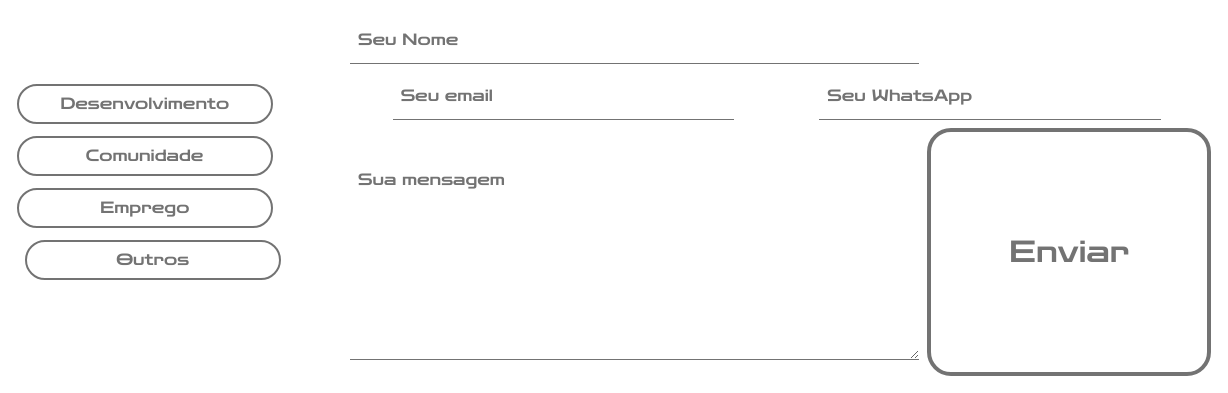
Test: Formulario › preenche e envia o formulário com sucesso
Type "João" into the field with placeholder "Seu Nome".
click(634, 40); type("João")  # box [350,16,919,64]
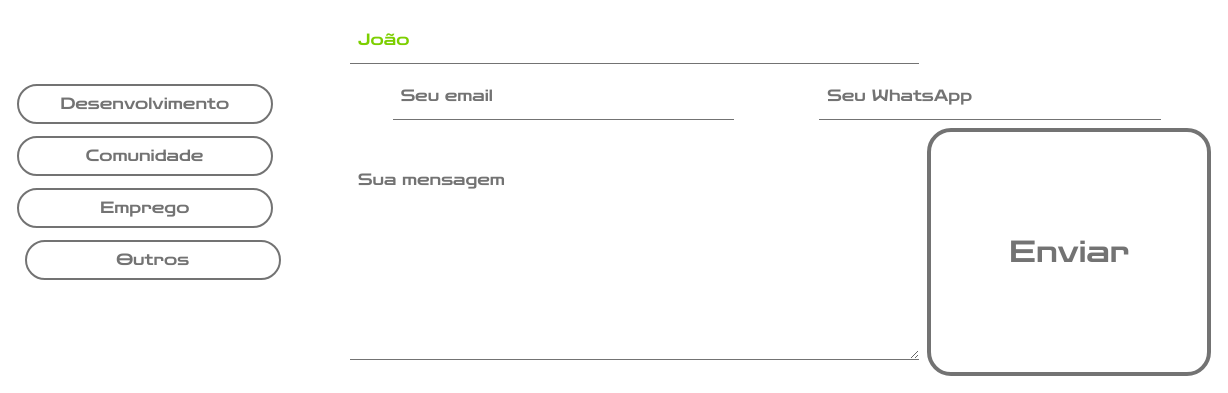
Type "joao@email.com" into the field with placeholder "Seu email".
click(563, 96); type("joao@email.com")  # box [393,72,734,120]
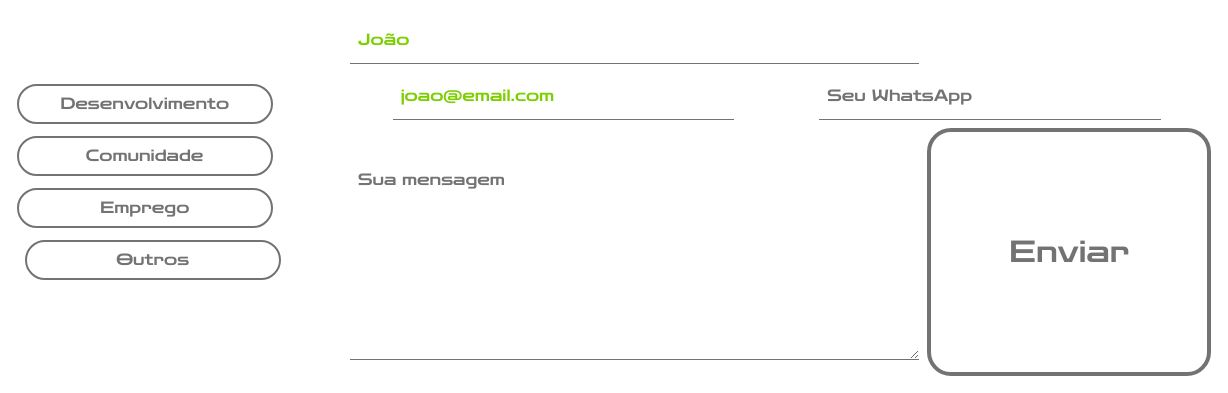
Type "21-91234-5678" into the field with placeholder "Seu WhatsApp".
click(990, 96); type("21-91234-5678")  # box [819,72,1161,120]
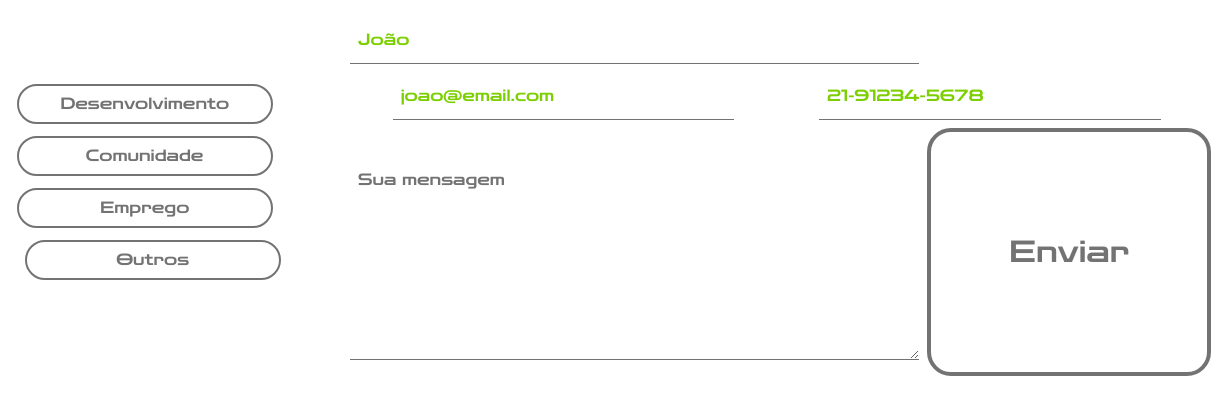
Type "Olá! Tudo bem?" into the text box with placeholder "Sua mensagem".
click(634, 244); type("Olá! Tudo bem?")  # box [350,128,919,360]
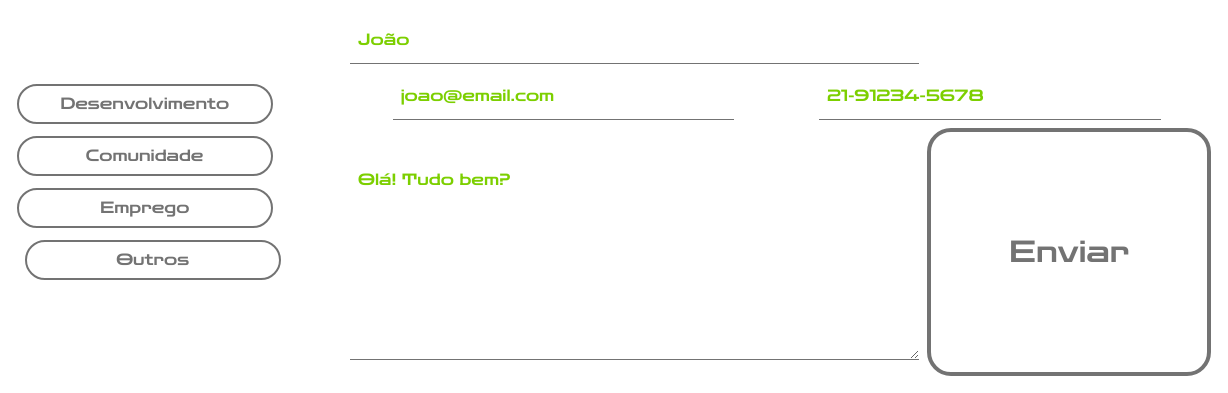
Click the button "Emprego".
click(145, 208)  # box [17,188,273,228]
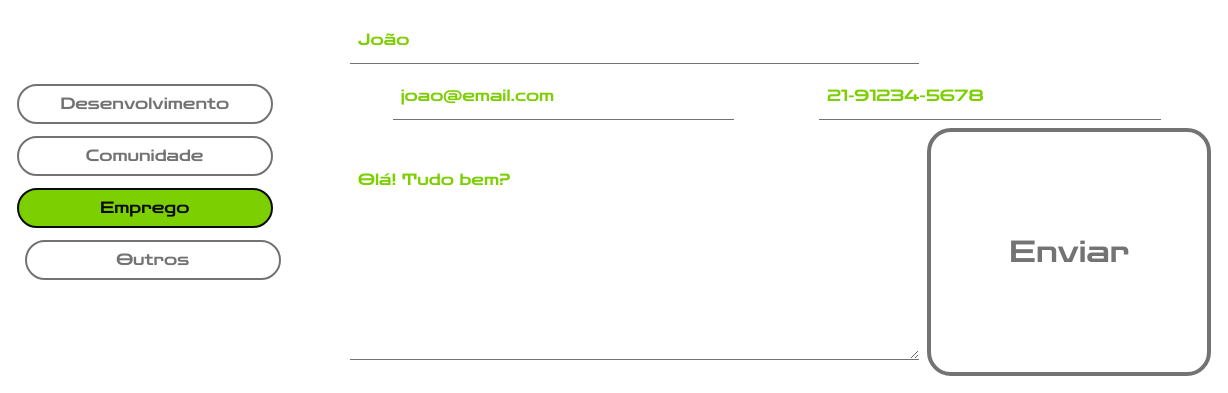
Click the button "Enviar".
click(1069, 252)  # box [927,128,1211,376]
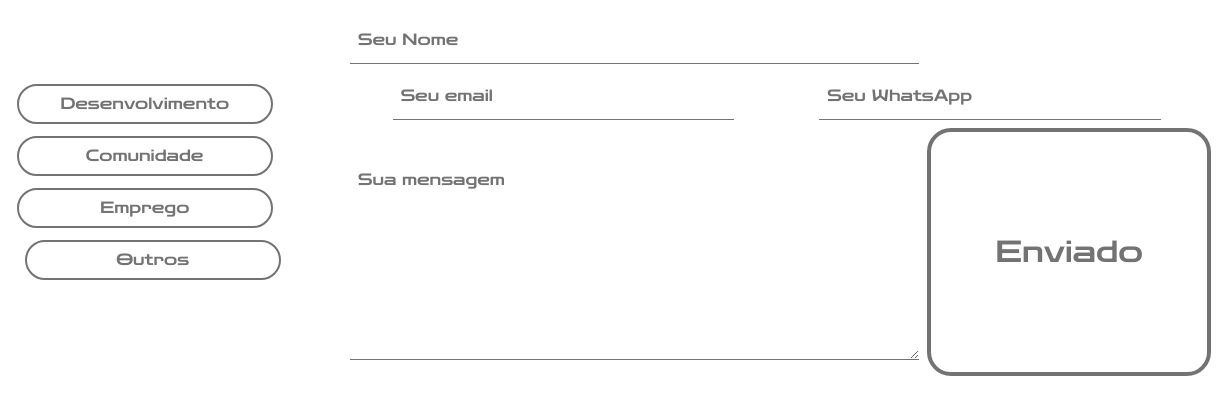
Now the button "Enviado" is shown, box [927,128,1211,376]
